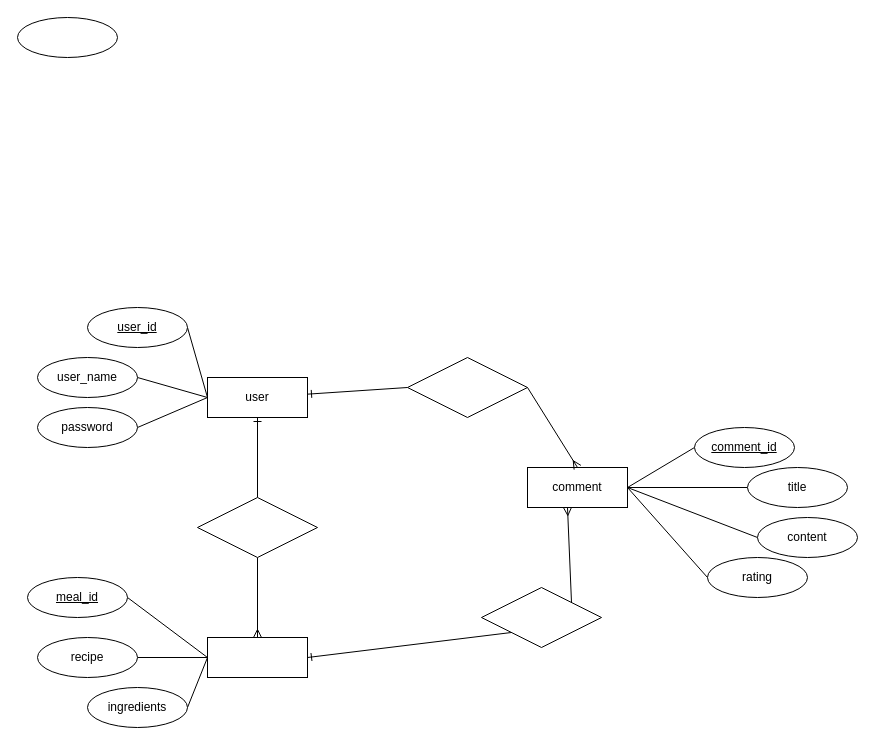
This 875x745 diagram has some shape labels left out. Here are the shapes that lost their labels. From the top down, the centre of each, then its label:
At (x=467, y=387): "writes".
At (x=257, y=527): "creates".
At (x=541, y=617): "has".
At (x=257, y=657): "meal".
